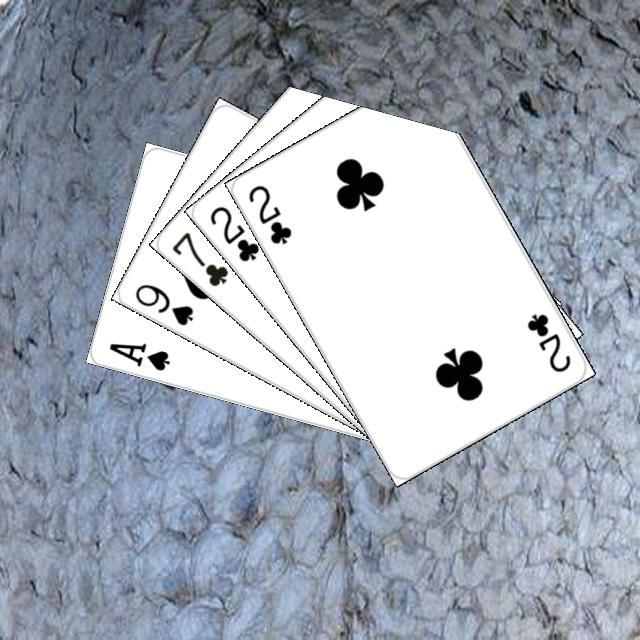2c: (204, 201, 261, 264), (243, 180, 294, 246), (522, 308, 573, 374)
7c: (166, 227, 231, 289)
9s: (130, 279, 195, 328)
As: (104, 338, 172, 373)
